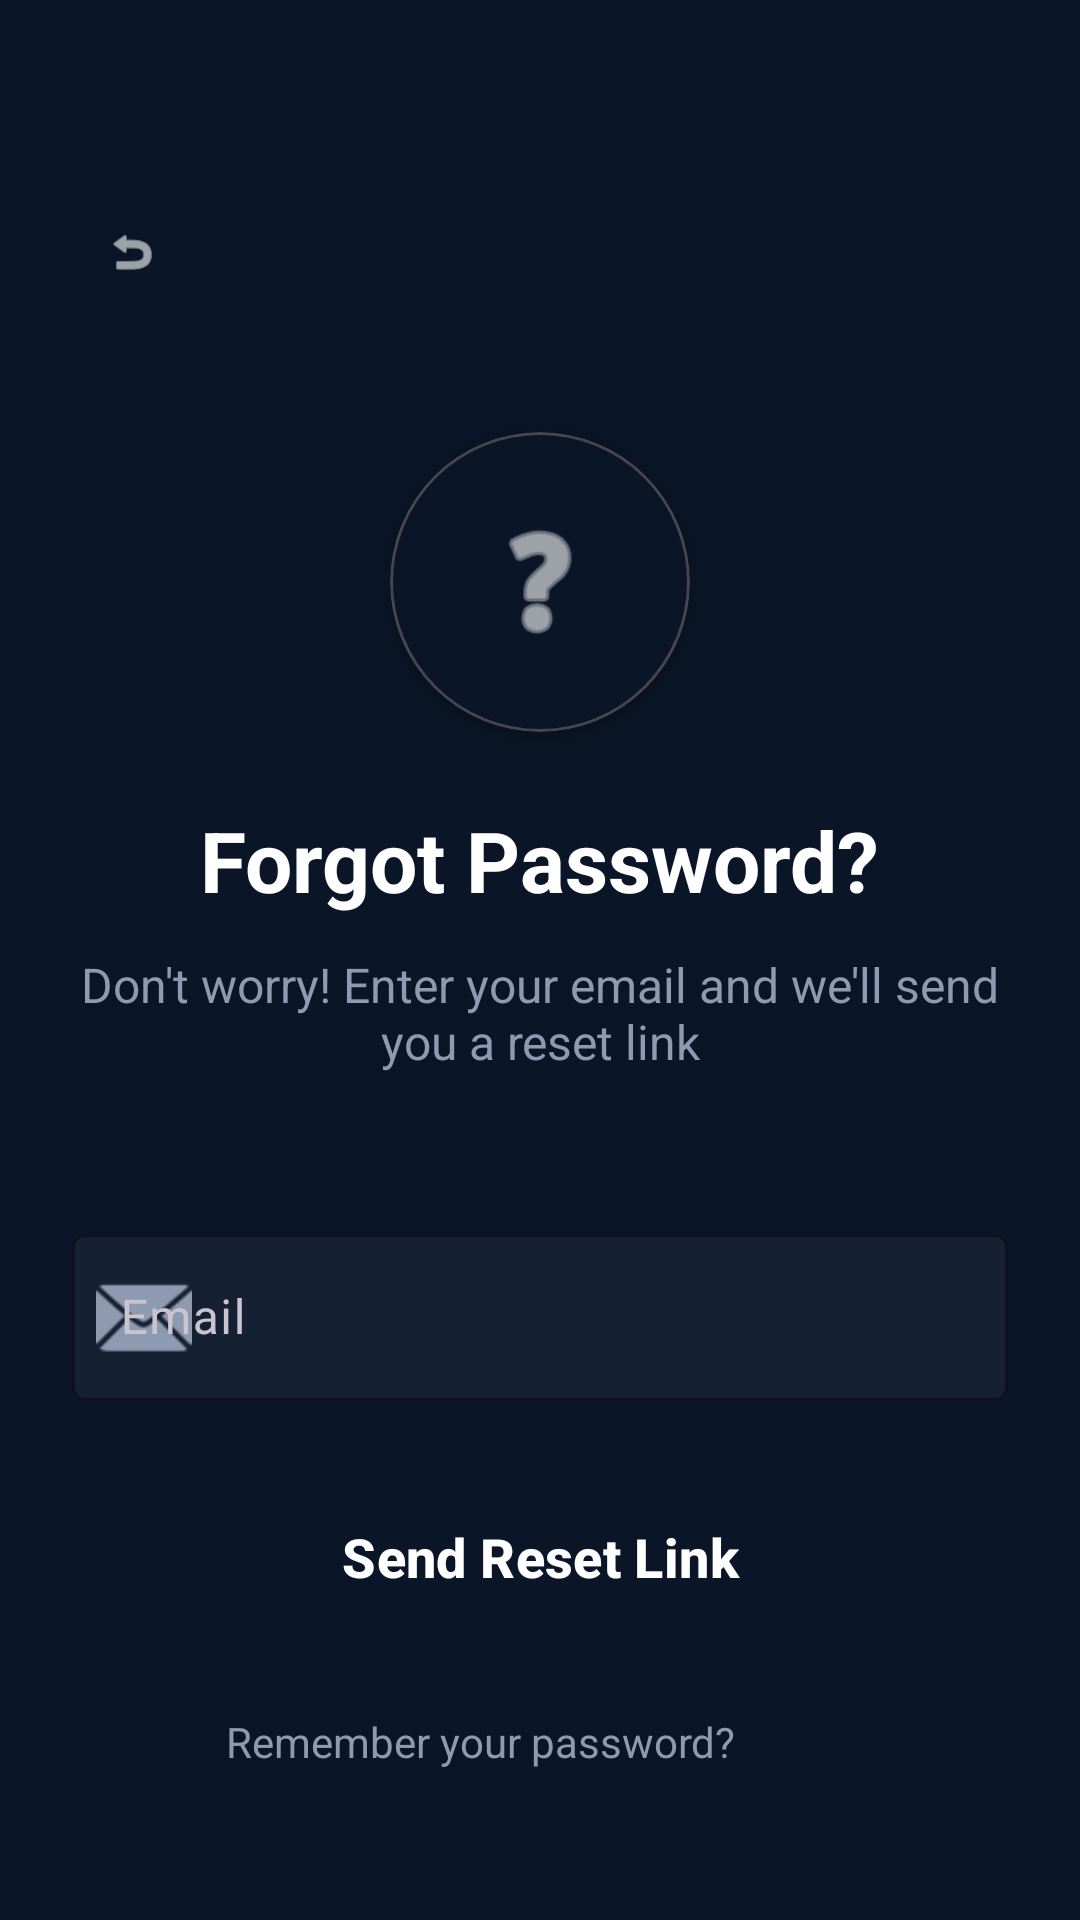

Named icons in this screenshot (1080px x 1920px) and their bounding boxes, [x1=x1, y1=y1, x2=x2, y2=y2]:
help: [x1=508, y1=530, x2=572, y2=634]
revert: [x1=113, y1=235, x2=152, y2=270]
